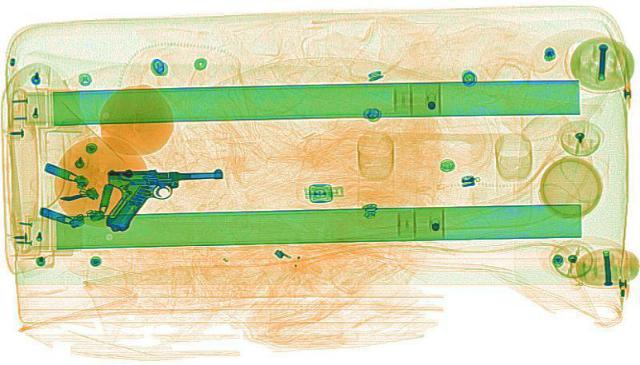Gun: (90, 160, 242, 231)
